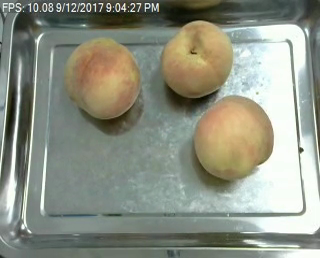Peach: (194, 95, 275, 179), (63, 38, 140, 119), (162, 20, 232, 98)
